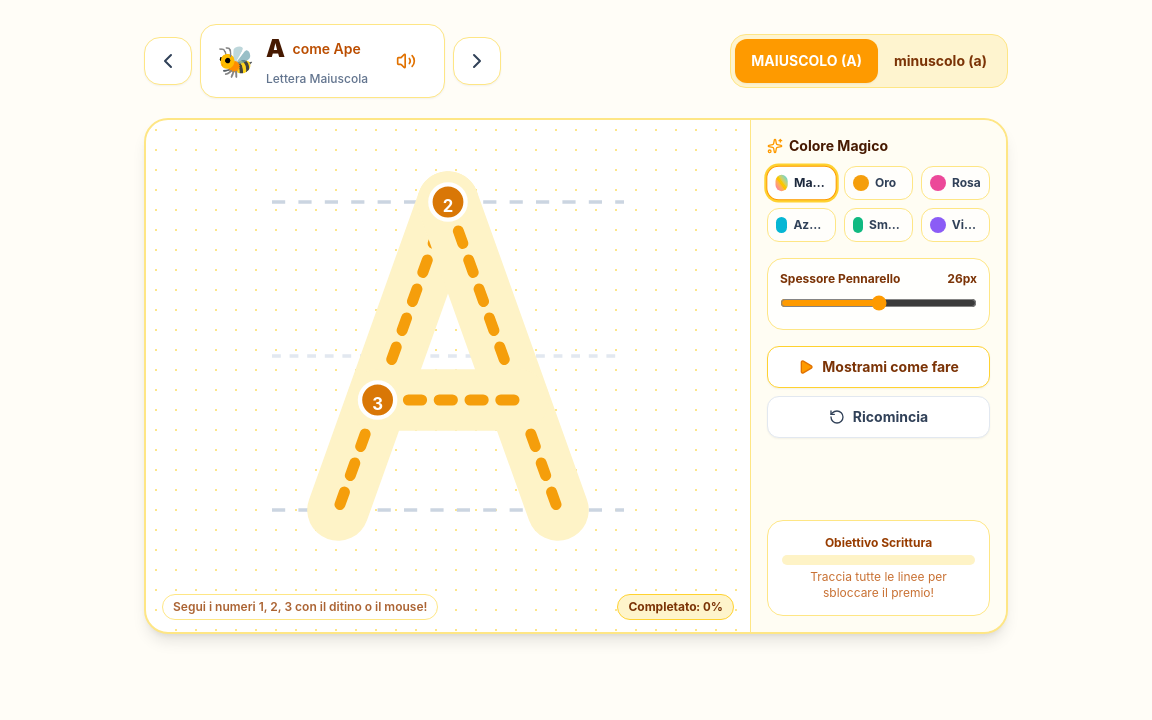
Test case: TracingCanvas › keeps accepting strokes after 75% and lets the percentage reach 100%
Press the mouse on the drawing named "Lavagna: traccia la lettera A seguendo i numeri" at coordinates (448, 356), box [228,136,668,576]
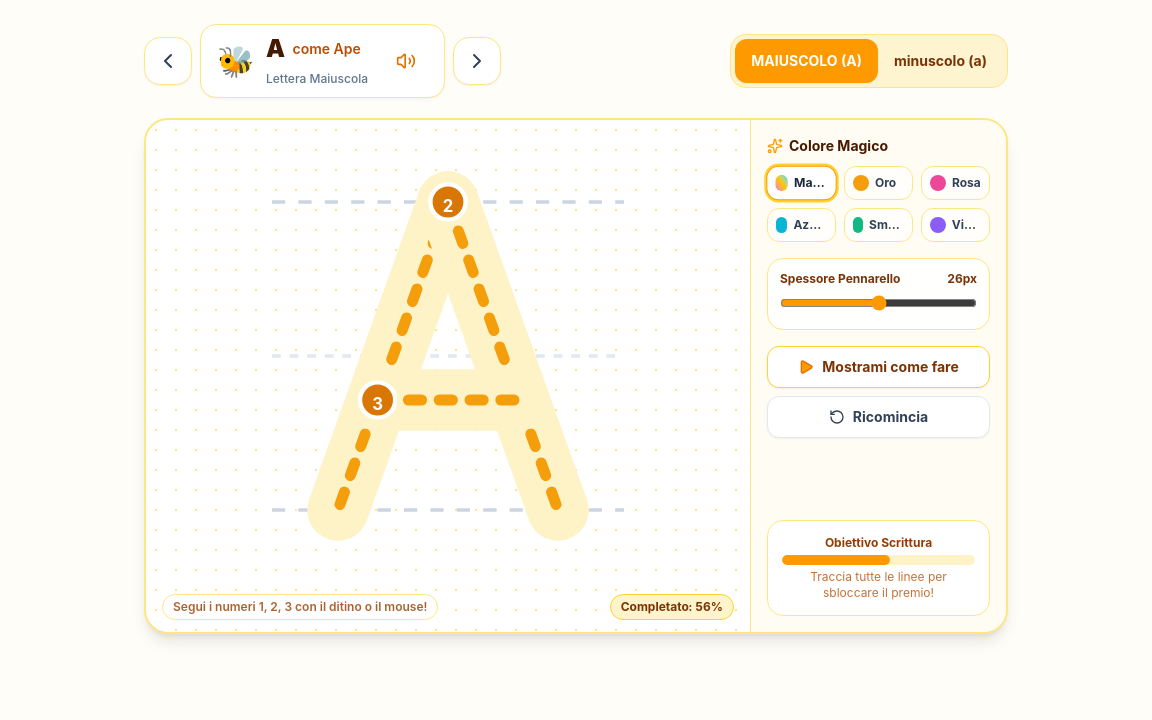
Press the mouse on the drawing named "Lavagna: traccia la lettera A seguendo i numeri" at coordinates (448, 356), box [228,136,668,576]
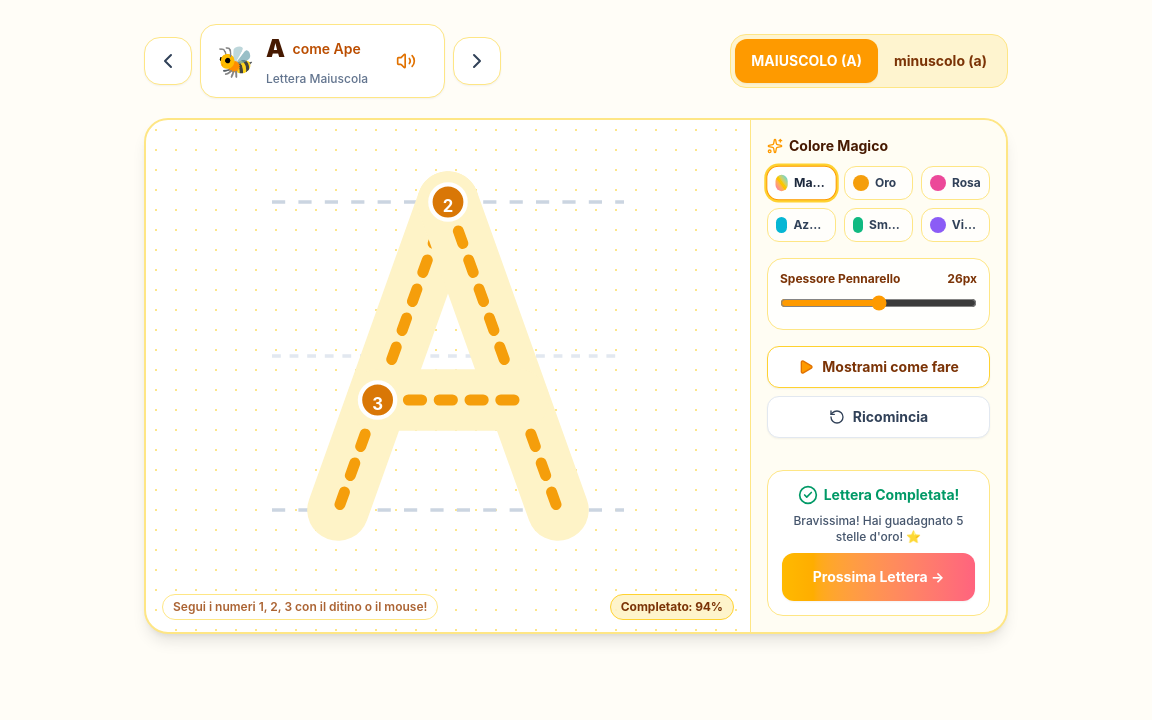
Press the mouse on the drawing named "Lavagna: traccia la lettera A seguendo i numeri" at coordinates (448, 356), box [228,136,668,576]
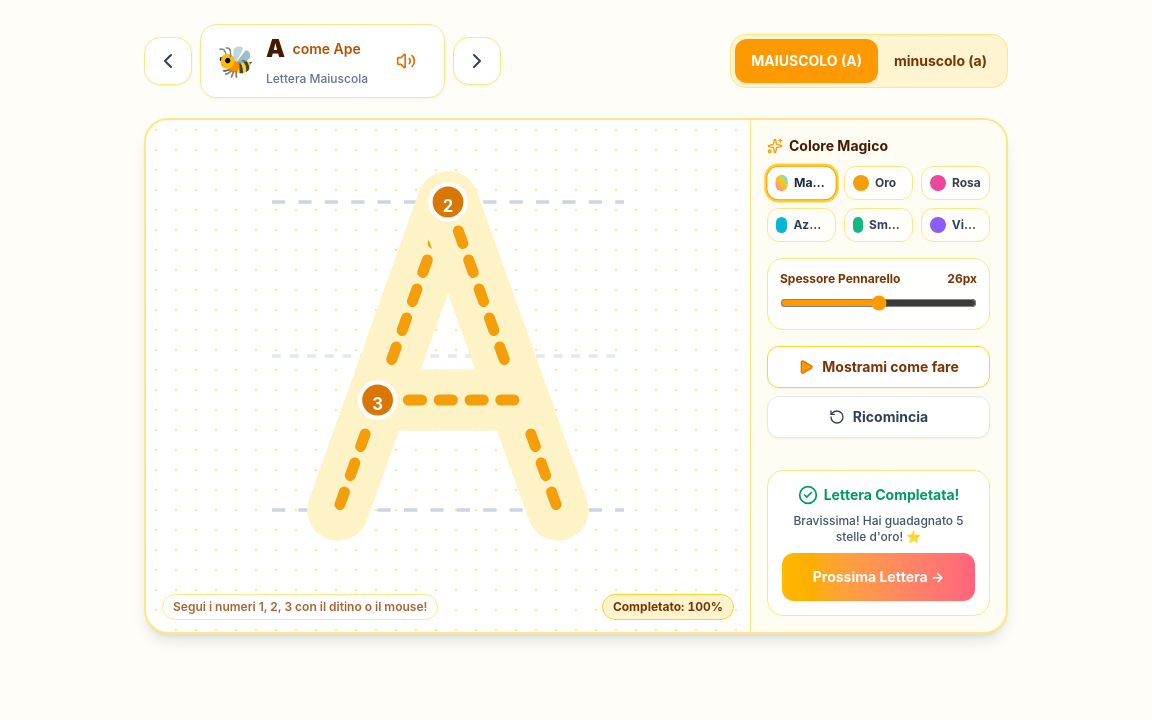
Now the text "Completato: 100%" is shown, box [602,594,734,620]
